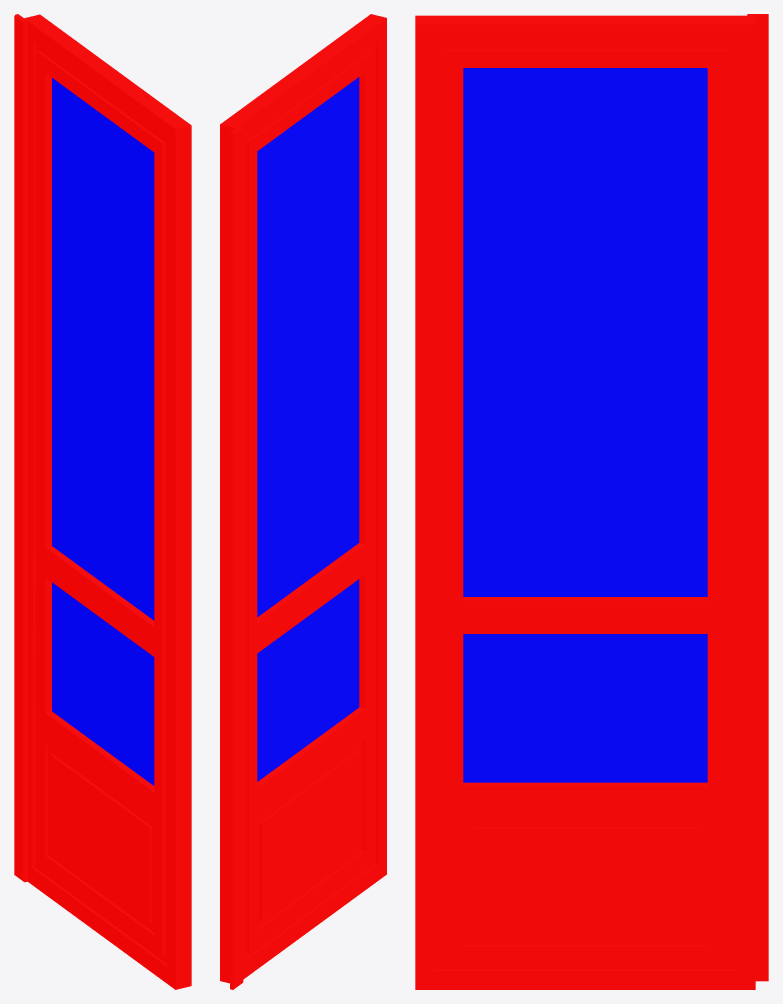
Rendered from Balkon_TuerLinks_Animiert.fbx.
3 views of the same model, side by side, from view 1: azimuth 30°, elevation 25°; view 2: azimuth 150°, elevation 25°; view 3: azimuth 270°, elevation 25° (orthographic). The views are drawn at different scales.
Parts seen in each view (by area): view 1: TürLinks; view 2: TürLinks; view 3: TürLinks.
Boxes of the visible parts, <box> form: TürLinks: <box>14,14,191,989</box>; TürLinks: <box>220,14,386,989</box>; TürLinks: <box>415,14,768,989</box>.
Bounding box in the file's own units: 4.97 × 202 × 67.11.
